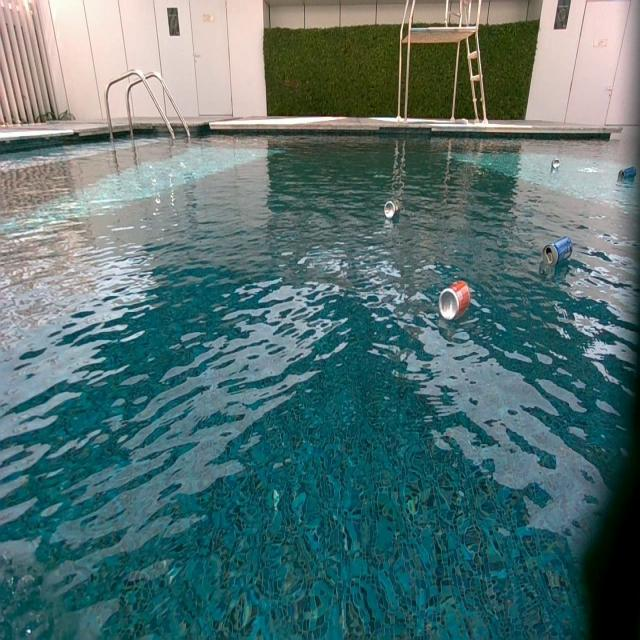Cans: (439, 282, 471, 324), (543, 236, 573, 267), (384, 201, 398, 221), (620, 168, 637, 181), (552, 158, 562, 172)
